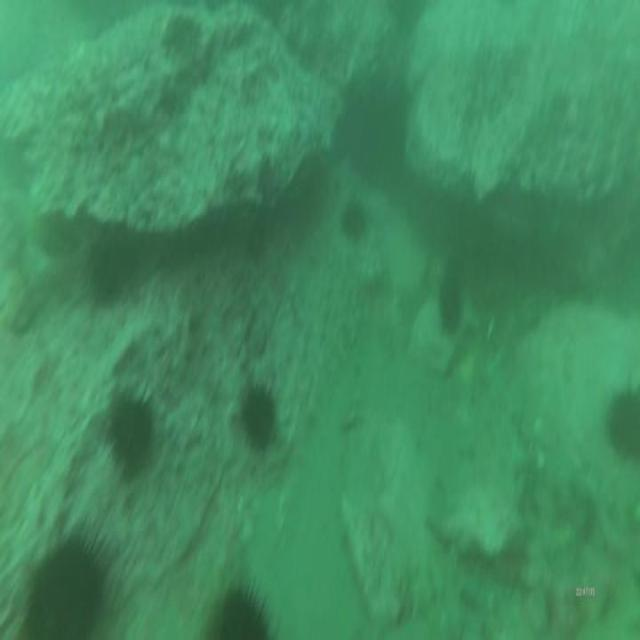echinus: (24, 521, 148, 640), (102, 381, 161, 485), (201, 570, 277, 640), (82, 232, 128, 313), (605, 375, 640, 466), (239, 376, 278, 457), (433, 270, 466, 338), (338, 199, 371, 248)
